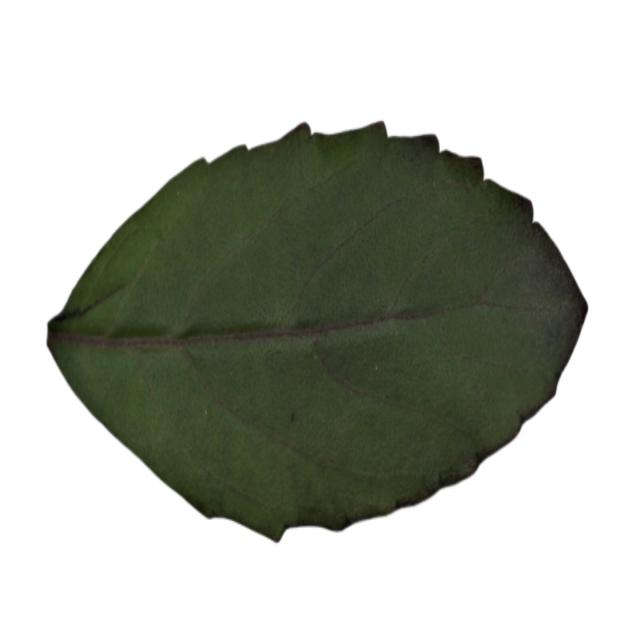tulsi: (46, 118, 589, 546)
